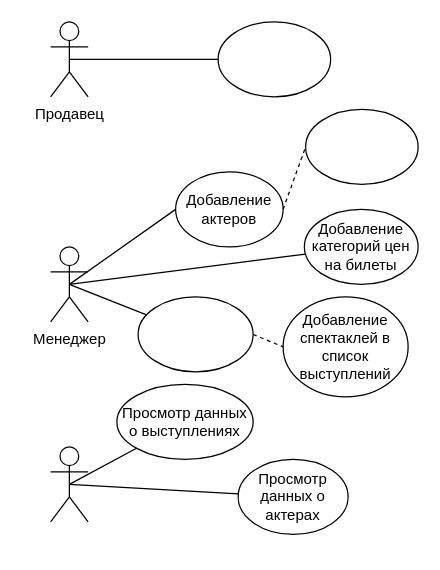
The diagram is 440 pixels wide and 570 high, and some of its shapes have lost their labels. Each missing label, with the centre of its shape:
"Добавление контрактов актеров" belongs at [361,146].
"Добавление спектаклей" belongs at [195,334].
"Изменение статуса билета" belongs at [274,59].
"Руководитель" belongs at [68,484].
